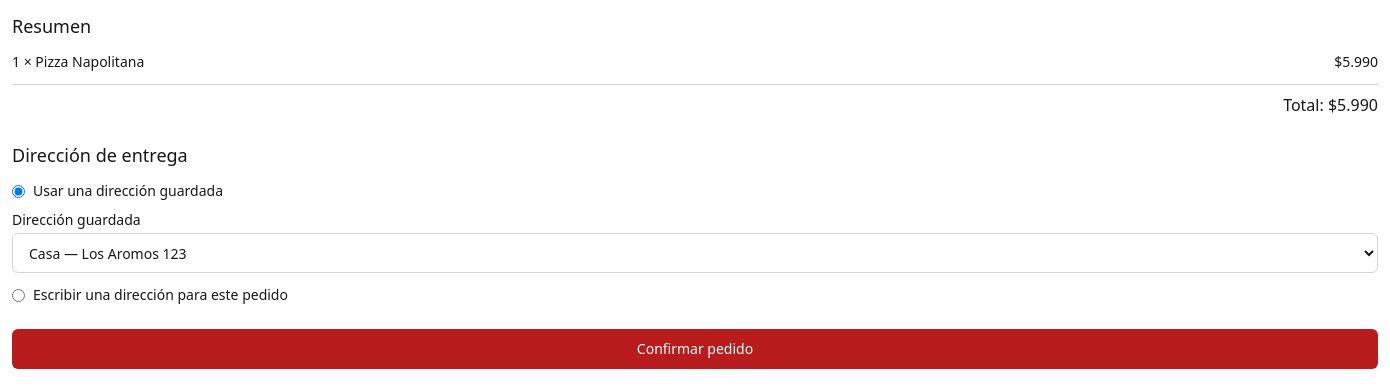
Test: Confirmar pedido (FR-022, FR-025, FR-028) › confirma con la dirección guardada preseleccionada (la predeterminada)
Click the button "Confirmar pedido" at (695, 349), box [12, 329, 1378, 369]
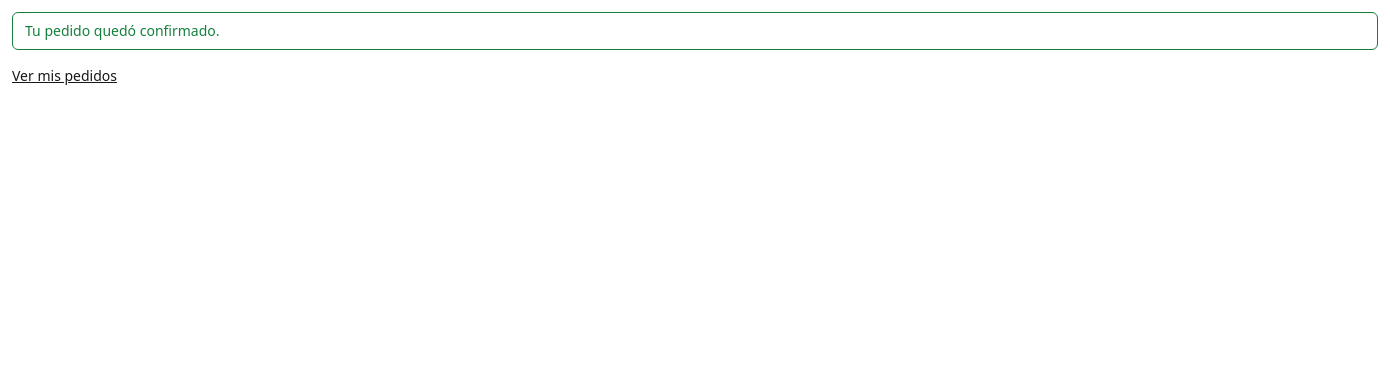
Now the message "Tu pedido quedó confirmado." is shown, box [12, 12, 1378, 50]
